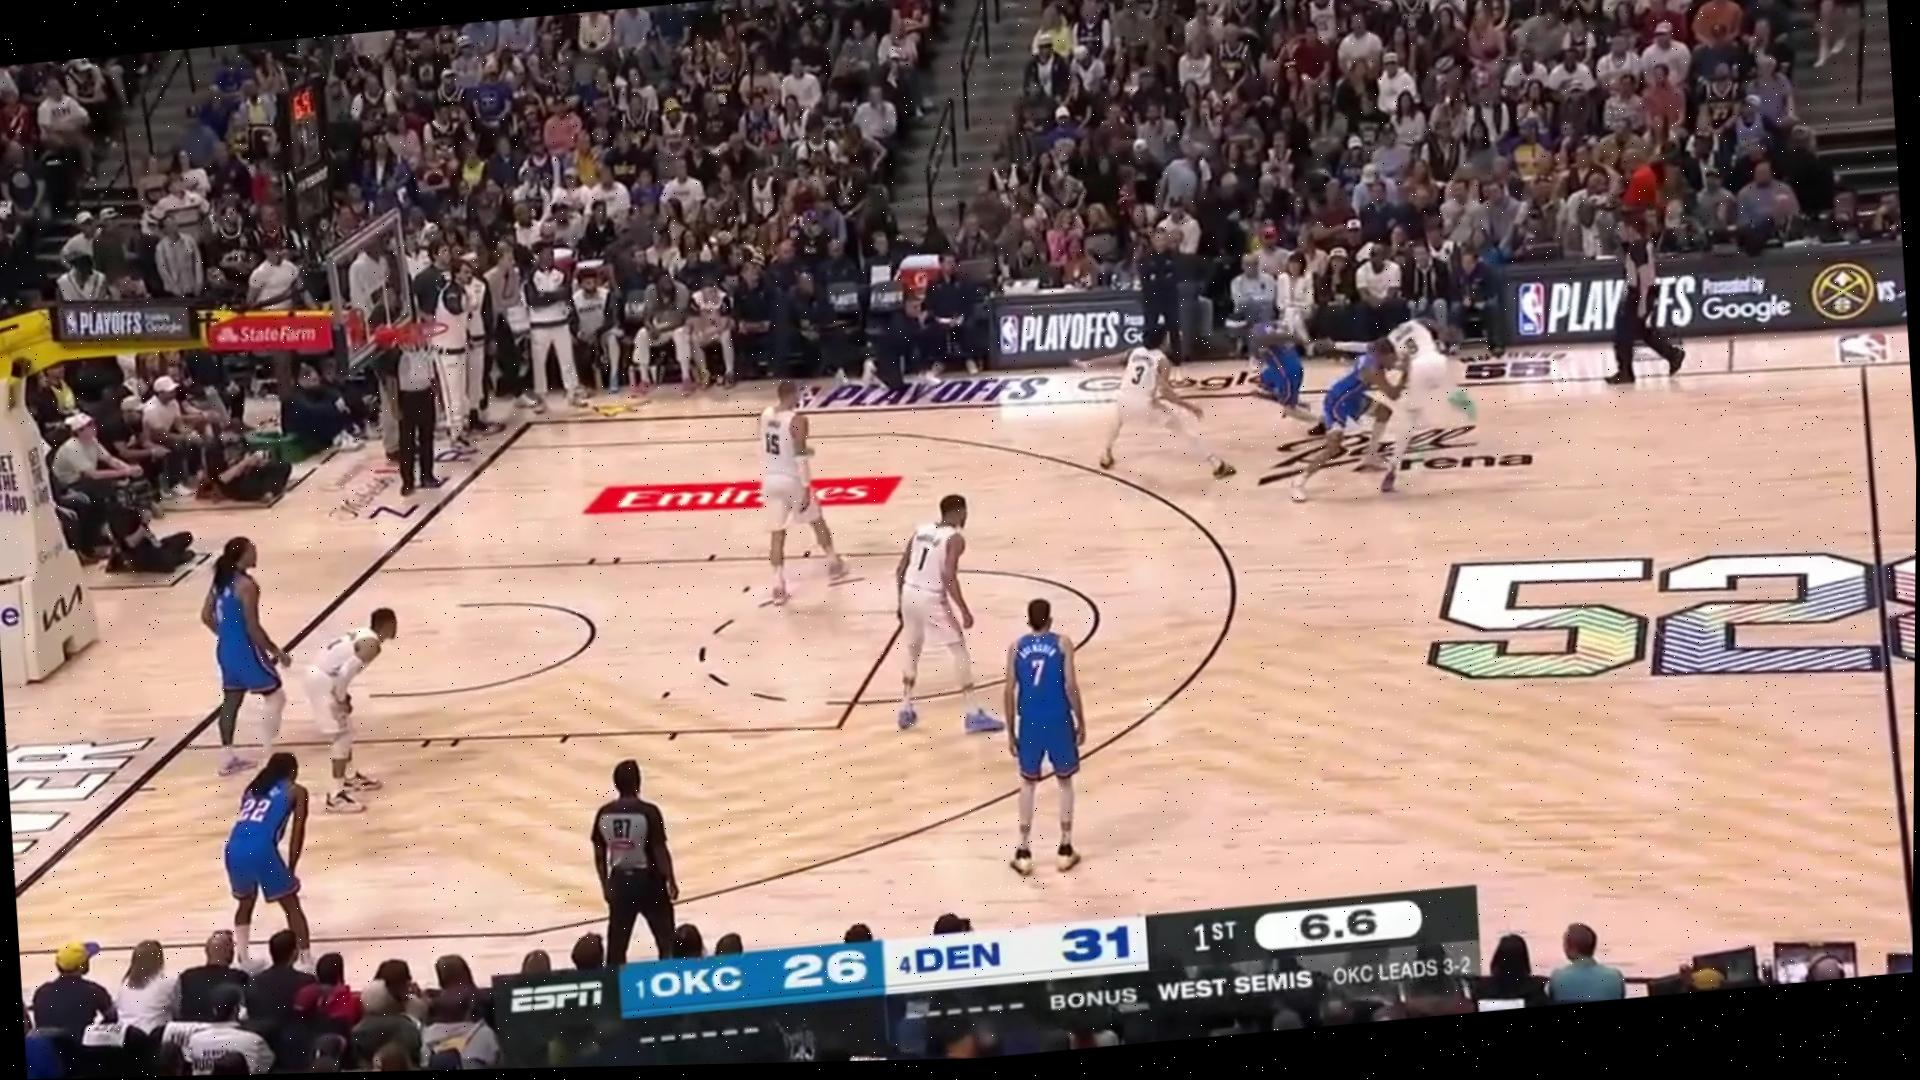foul: (1299, 276, 1490, 516)
